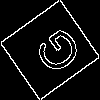G: (25, 24, 85, 83)
